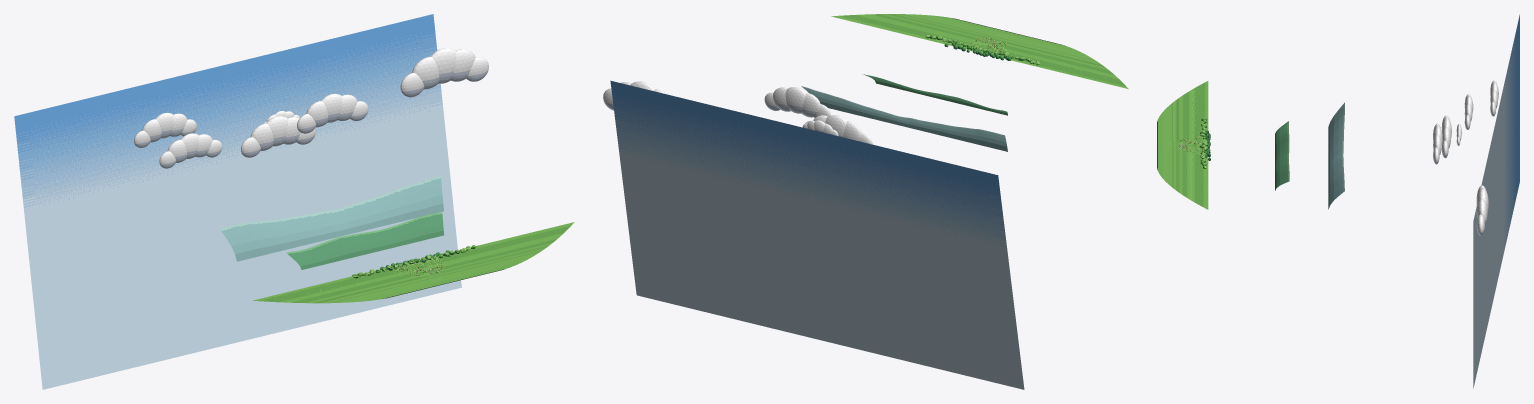
File: bg_grass.glb
3 renders of one model, left to right at view 1: azimuth 30°, elevation 25°; view 2: azimuth 150°, elevation 25°; view 3: azimuth 270°, elevation 25°, orthographic. The views are drawn at different scales.
Visible parts, largest first — view 1: sky, clouds, ground, unlit_hills_far, unlit_hills_near, grass_decor; view 2: sky, ground, clouds, unlit_hills_far, unlit_hills_near, grass_decor; view 3: sky, ground, clouds, unlit_hills_far, unlit_hills_near, grass_decor.
Boxes of the visible parts, box(x1,y1,x2,y2) form: sky: box(14, 14, 461, 389); clouds: box(134, 48, 488, 168); ground: box(253, 222, 574, 303); unlit_hills_far: box(220, 175, 443, 261); unlit_hills_near: box(286, 212, 444, 269); grass_decor: box(352, 245, 475, 278); sky: box(610, 80, 1024, 389); ground: box(831, 14, 1128, 88); clouds: box(603, 81, 872, 144); unlit_hills_far: box(801, 86, 1007, 151); unlit_hills_near: box(862, 74, 1007, 115); grass_decor: box(925, 35, 1040, 65); sky: box(1473, 14, 1519, 388); ground: box(1157, 81, 1208, 209); clouds: box(1433, 80, 1498, 235); unlit_hills_far: box(1328, 102, 1344, 209); unlit_hills_near: box(1275, 121, 1289, 190); grass_decor: box(1178, 117, 1208, 168).
Bounding box in the file's own units: 112 × 59.92 × 94.79.
Materials: 10 (4 with a texture image).
